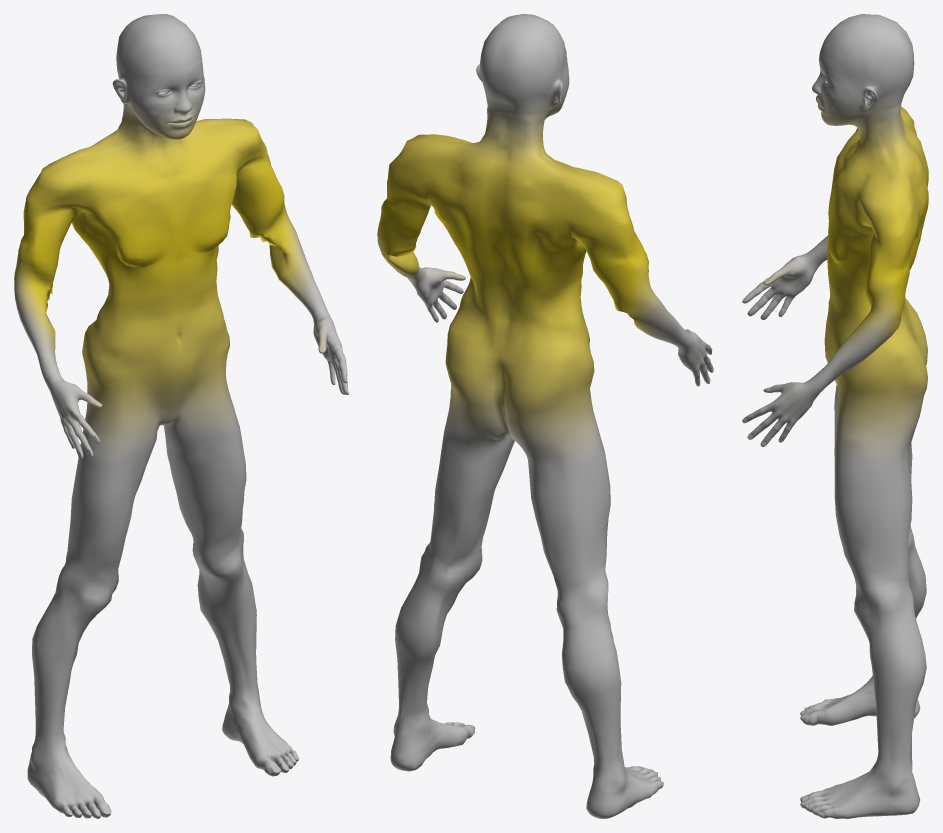
File: cuerpo-particulas.glb
3 renders of one model, left to right at view 1: azimuth 30°, elevation 25°; view 2: azimuth 150°, elevation 25°; view 3: azimuth 270°, elevation 25°, orthographic.
Visible parts, largest first — view 1: HumanParticleBody_High; view 2: HumanParticleBody_High; view 3: HumanParticleBody_High.
Part boxes in pixels (x1,y1,x2,y2): HumanParticleBody_High: (14, 14, 348, 818); HumanParticleBody_High: (377, 14, 713, 818); HumanParticleBody_High: (742, 14, 928, 818).
Bounding box in the file's own units: 0.7011 × 1.8 × 0.4075.
